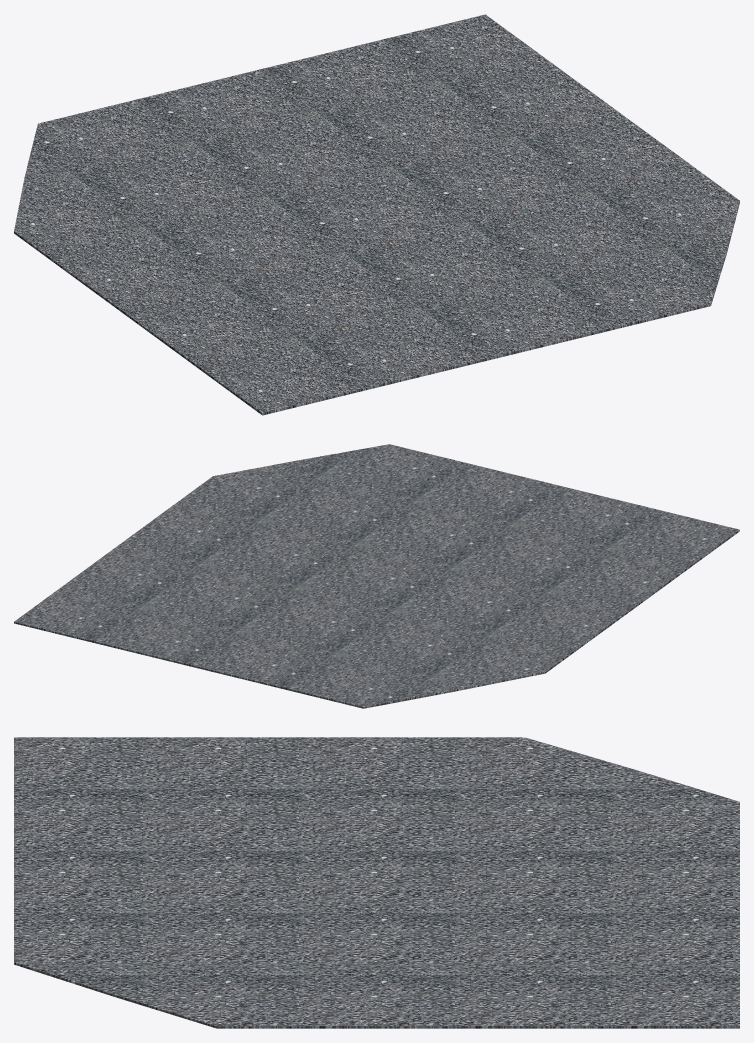
The model's file is Patio.obj.
The picture shows the model from 3 angles, top to bottom: view 1: azimuth 30°, elevation 25°; view 2: azimuth 150°, elevation 25°; view 3: azimuth 270°, elevation 25°; orthographic projection. The views are drawn at different scales.
Visible parts, largest first — view 1: Box022; view 2: Box022; view 3: Box022.
Boxes of the visible parts, <box> form: Box022: <box>14,14,739,415</box>; Box022: <box>14,444,739,708</box>; Box022: <box>14,737,739,1028</box>.
Size of the model in its own units: 79.5 by 0.2837 by 84.4.
1 material, 1 textured.
